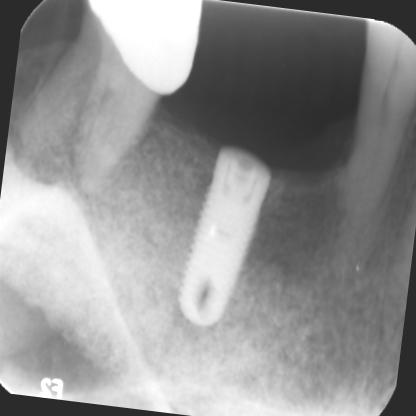ITI: (154, 142, 294, 348)
